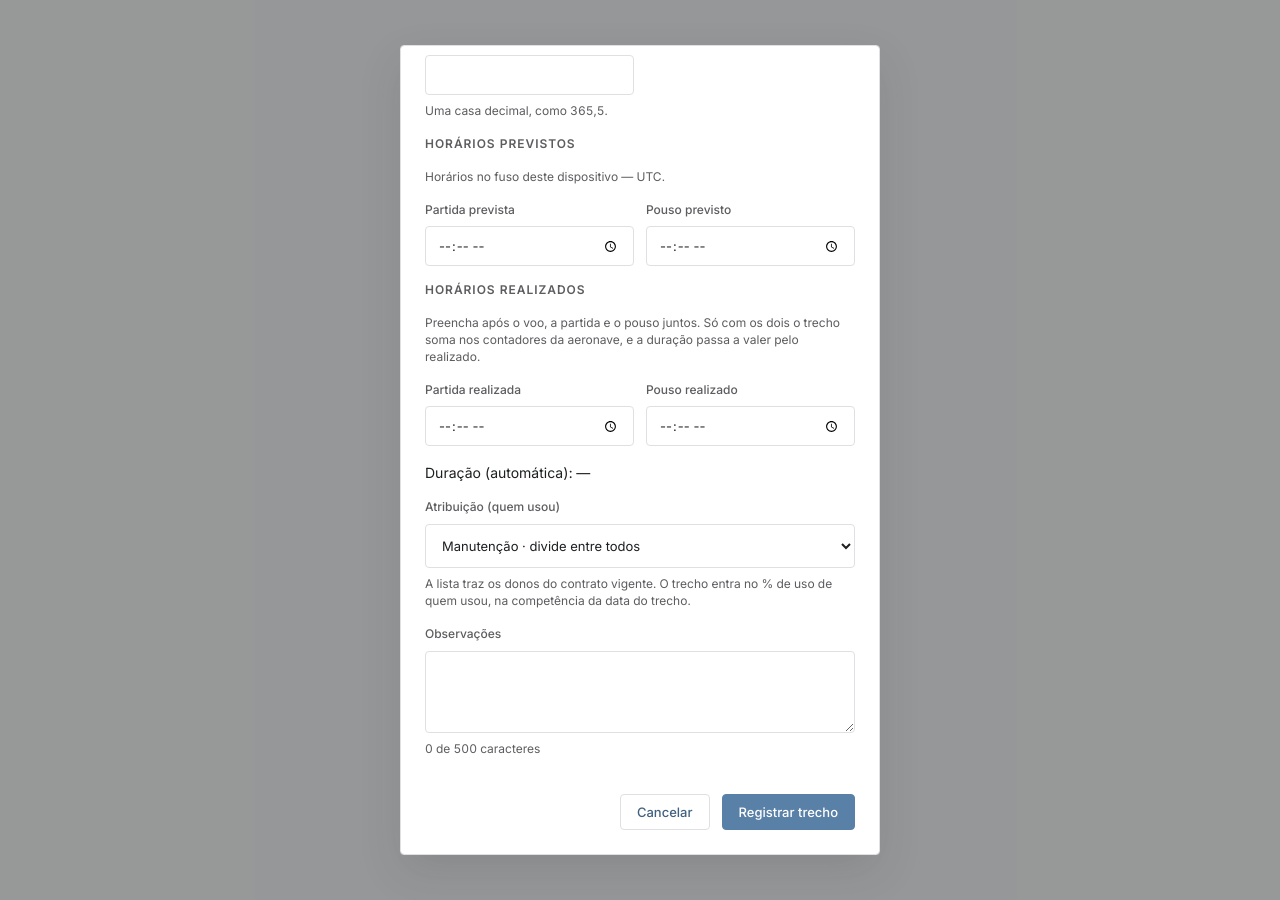
PainelDeTrecho › salvar vazio não envia: foca o primeiro campo e o resumo diz quais faltam
(page scrolled)
Click the button "Registrar trecho": (788, 812) left=722, top=794, right=855, bottom=830
(page scrolled)
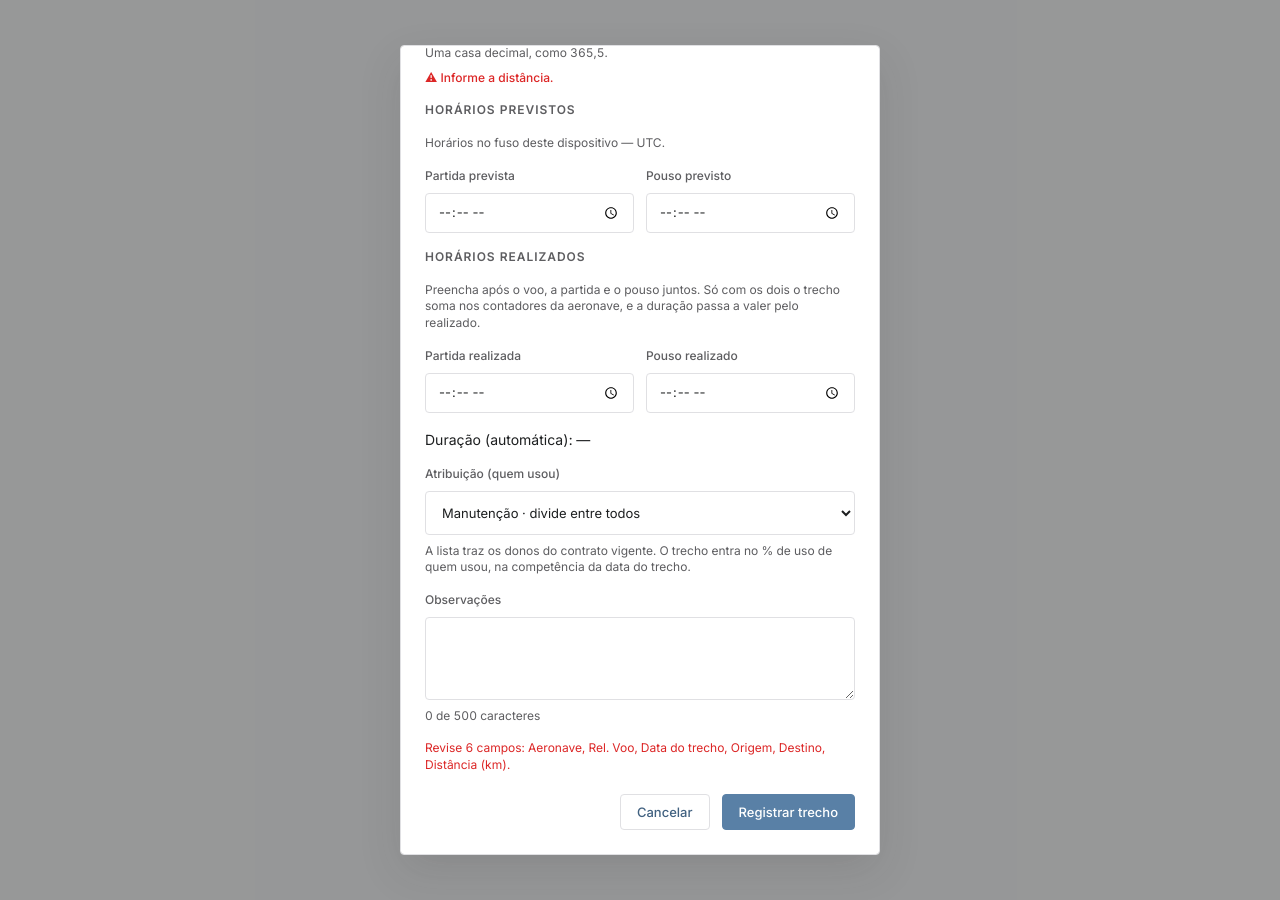
Expected: the message shows "Revise 6 campos: Aeronave, Rel. Voo, Data do trecho, Origem, Destino, Distância (km).", left=425, top=740, right=825, bottom=772
